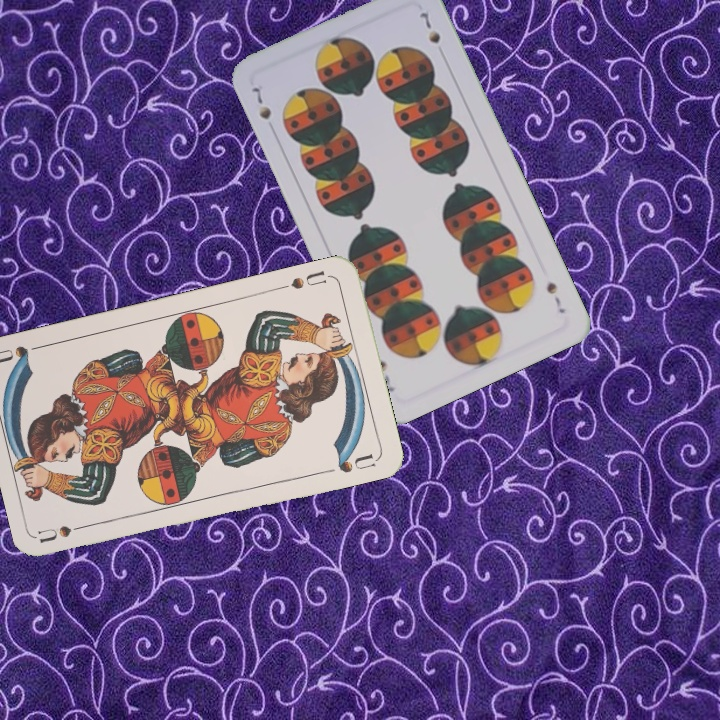S7: (248, 82, 274, 123), (542, 277, 568, 316)
SU: (36, 519, 96, 545), (275, 267, 334, 292)
